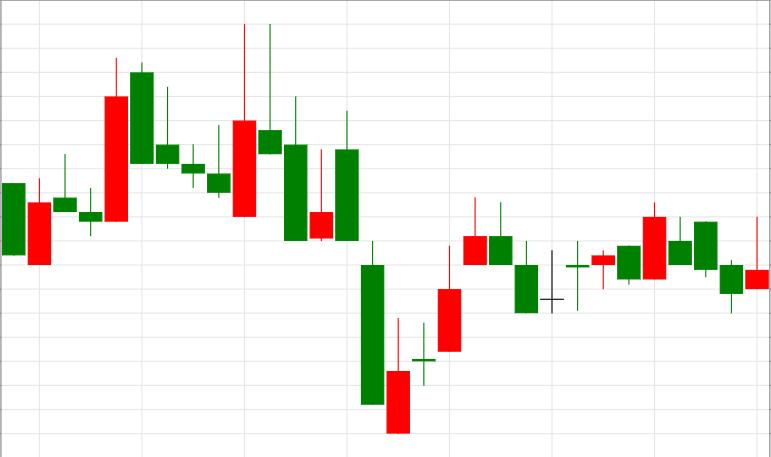bullish_engulfing_rise: (131, 24, 256, 216)
